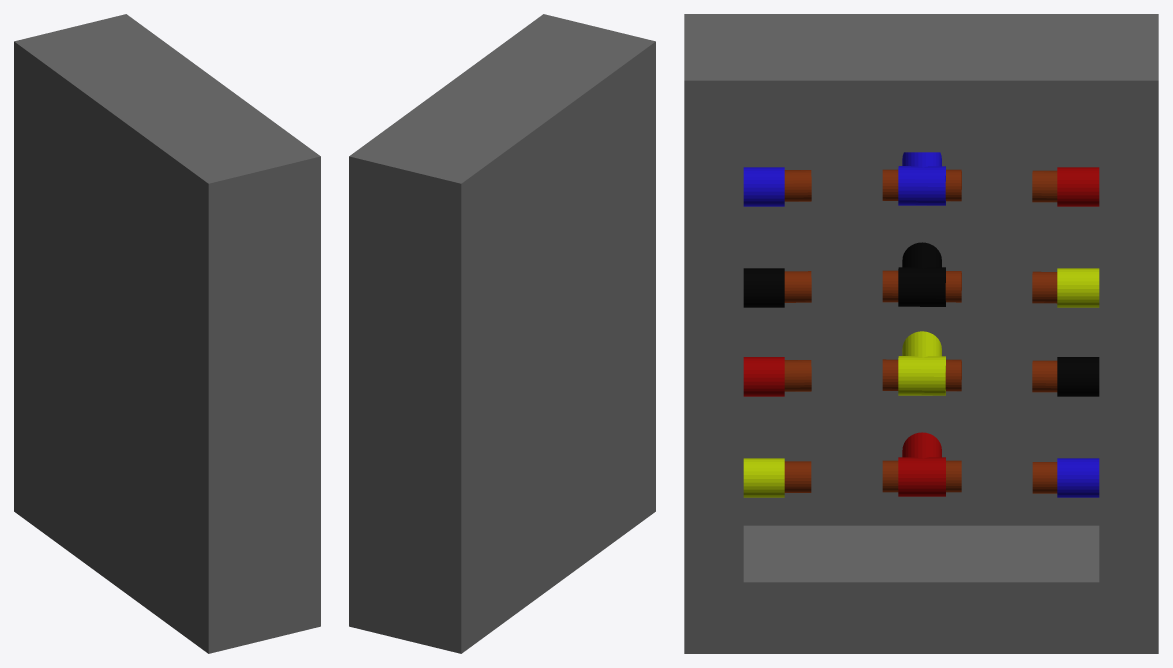
File: electrical_box.obj
The picture shows the model from 3 angles, left to right: view 1: azimuth 30°, elevation 25°; view 2: azimuth 150°, elevation 25°; view 3: azimuth 270°, elevation 25°; orthographic projection. The views are drawn at different scales.
Visible parts, largest first — view 1: Cube; view 2: Cube; view 3: Cube, Cylinder.024, Cylinder.027, Cylinder.026, Cylinder.025, Cylinder.004, Cylinder.005, Cylinder.006, Cylinder.007, Cylinder, Cylinder.001, Cylinder.002 (+16 smaller).
Boxes of the visible parts, x1,y1,x2,y2 form: Cube: [14, 14, 320, 653]; Cube: [349, 14, 655, 653]; Cube: [684, 14, 1158, 653]; Cylinder.024: [898, 166, 945, 205]; Cylinder.027: [898, 356, 945, 395]; Cylinder.026: [898, 457, 945, 496]; Cylinder.025: [898, 267, 945, 306]; Cylinder.004: [1057, 357, 1099, 396]; Cylinder.005: [1057, 458, 1099, 497]; Cylinder.006: [1057, 268, 1099, 307]; Cylinder.007: [1057, 167, 1099, 206]; Cylinder: [743, 167, 784, 206]; Cylinder.001: [743, 268, 784, 307]; Cylinder.002: [743, 458, 784, 497].
Size of the model in its own units: 0.2 by 0.8 by 0.6.
